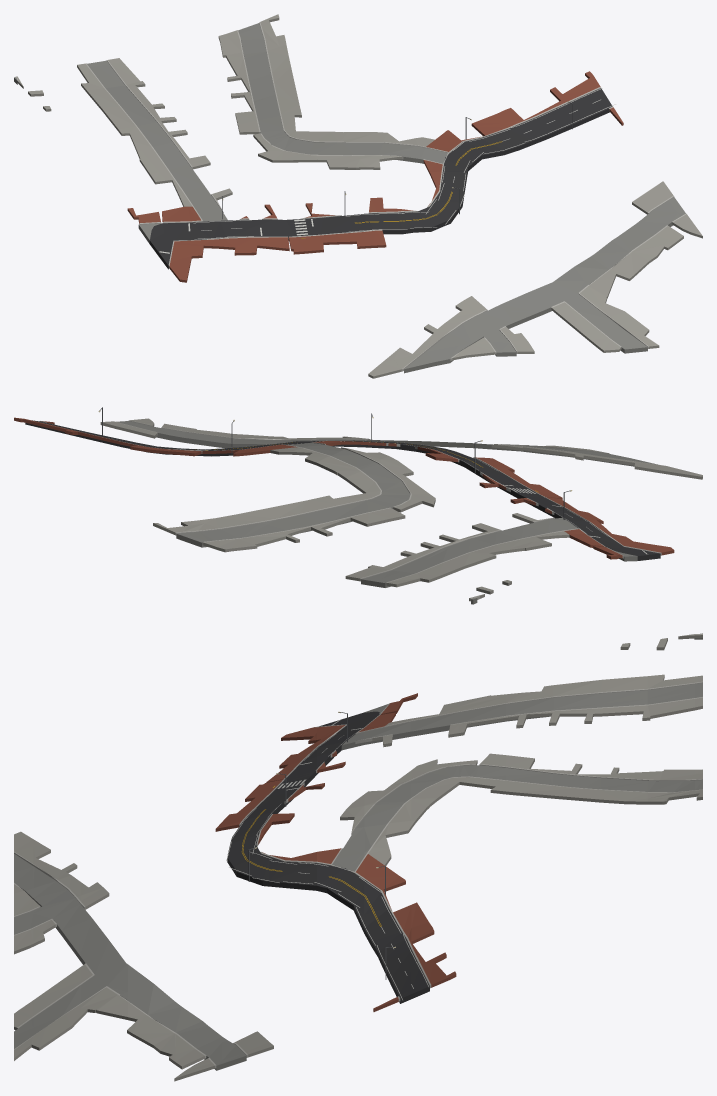
The picture shows the model from 3 angles, top to bottom: view 1: azimuth 30°, elevation 25°; view 2: azimuth 150°, elevation 25°; view 3: azimuth 270°, elevation 25°; orthographic projection. The views are drawn at different scales.
Size of the model in its own units: 148 by 47.19 by 146.
